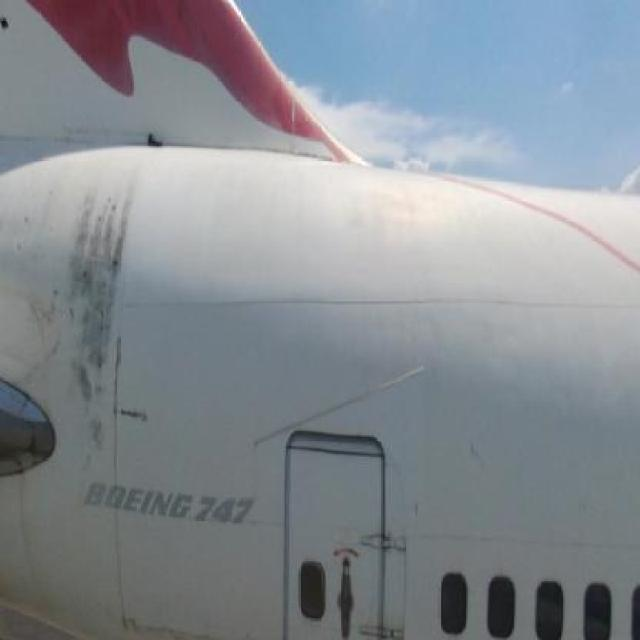Rust: (63, 167, 200, 458)
Scartch: (89, 581, 227, 640), (451, 400, 514, 514), (108, 330, 160, 448)
